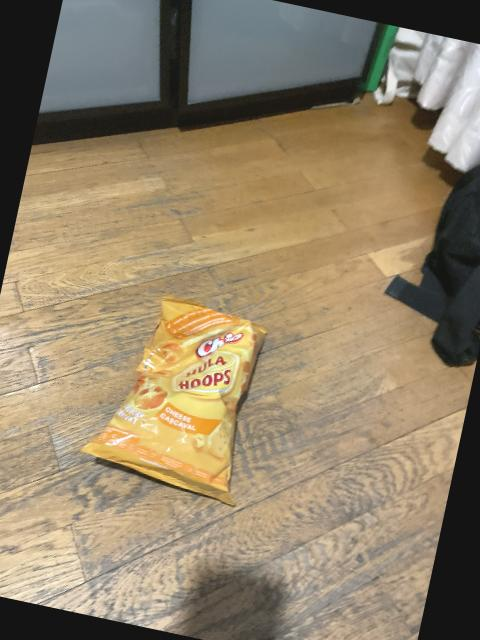Chio Hula Hoops Cheese 70g: (76, 287, 276, 508)
